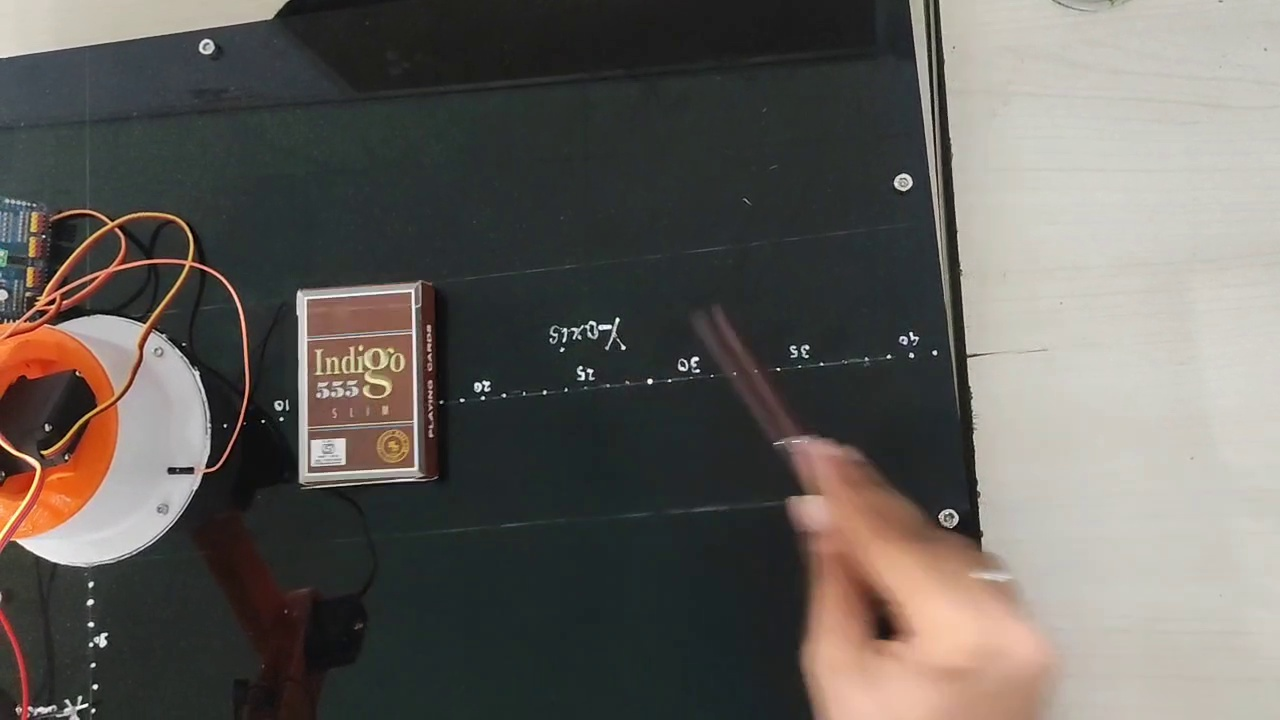BEX: (303, 290, 416, 471)
